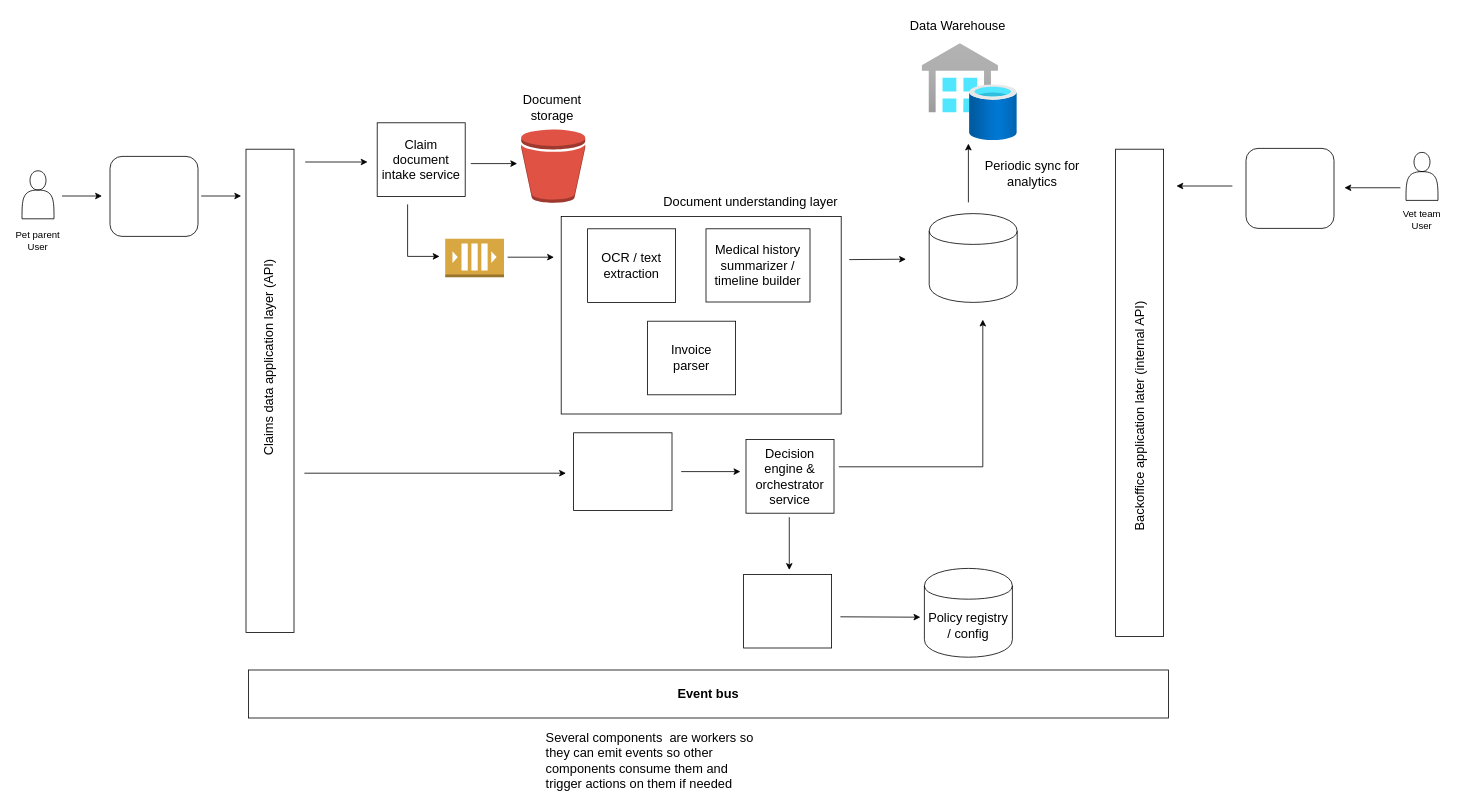
Image size: 1459x805. Some labels were removed from this diagram. Each missing label, with the box of its shape:
Backoffice UI: (1245, 148, 1334, 228)
Mobile app: (109, 156, 198, 236)
Payment / Reimbursement service: (573, 432, 672, 510)
Policy engine service: (743, 574, 832, 648)
Structured claim data store: (928, 213, 1017, 302)
